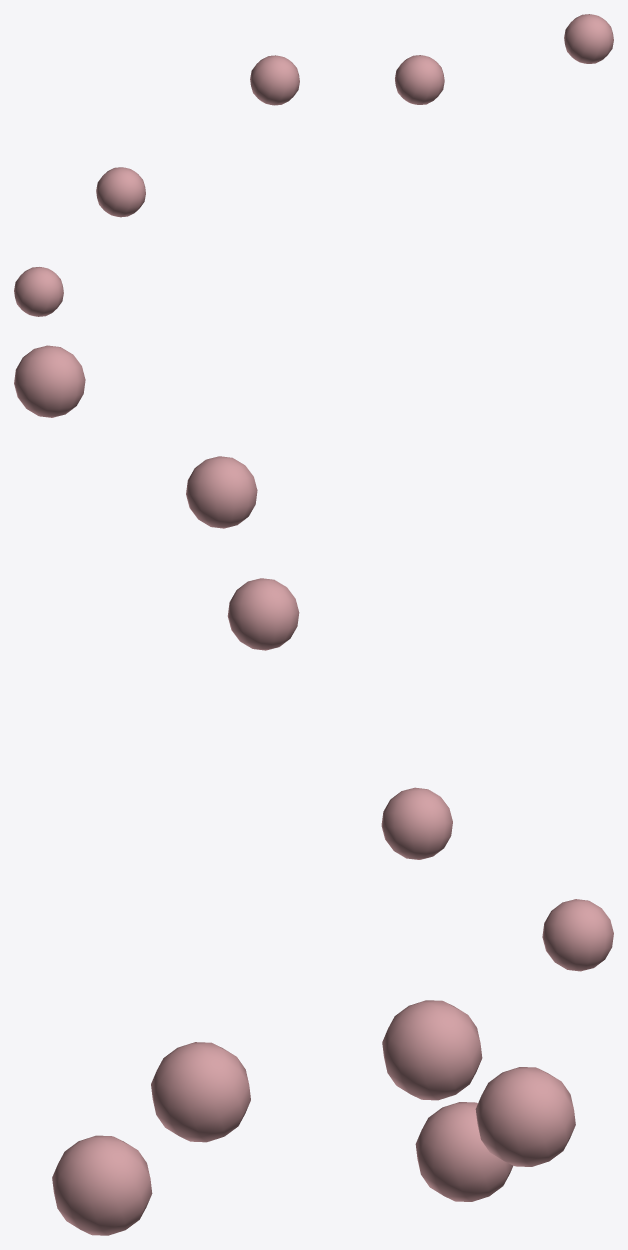
The picture shows the model from 3 angles, top to bottom: view 1: azimuth 30°, elevation 25°; view 2: azimuth 150°, elevation 25°; view 3: azimuth 270°, elevation 25°; orthographic projection. The views are drawn at different scales.
Visible parts, largest first — view 1: ZA_184e4858555a6e24; view 2: ZA_184e4858555a6e24; view 3: ZA_184e4858555a6e24.
Part boxes in pixels (x1,y1,x2,y2): ZA_184e4858555a6e24: (14, 14, 613, 316); ZA_184e4858555a6e24: (14, 345, 613, 971); ZA_184e4858555a6e24: (52, 1000, 575, 1235).
Bounding box in the file's own units: 0.0297 × 0.0143 × 0.0134.
